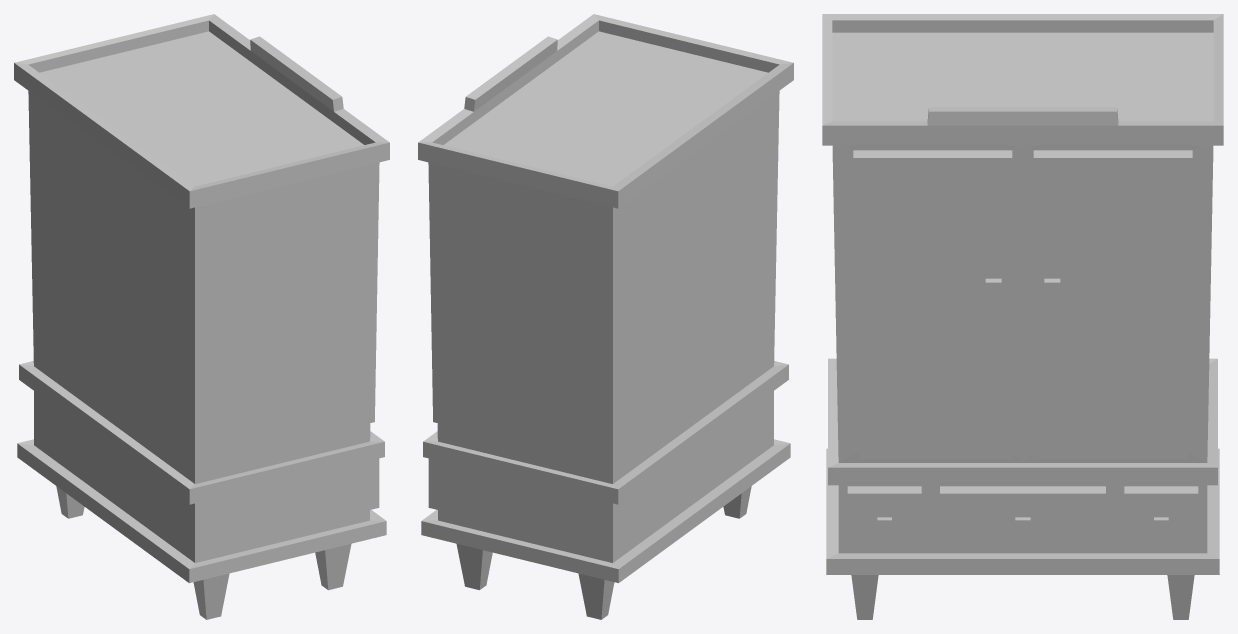
The model's file is Closet2.glb.
The picture shows the model from 3 angles, left to right: view 1: azimuth 30°, elevation 25°; view 2: azimuth 150°, elevation 25°; view 3: azimuth 270°, elevation 25°; orthographic projection. The views are drawn at different scales.
Visible parts, largest first — view 1: Closet2; view 2: Closet2; view 3: Closet2.
Boxes of the visible parts, x1,y1,x2,y2 form: Closet2: [14, 14, 389, 619]; Closet2: [418, 14, 793, 619]; Closet2: [822, 14, 1223, 619].
Bounding box in the file's own units: 0.4755 × 0.9958 × 0.6895.
2 materials, 2 textured.
